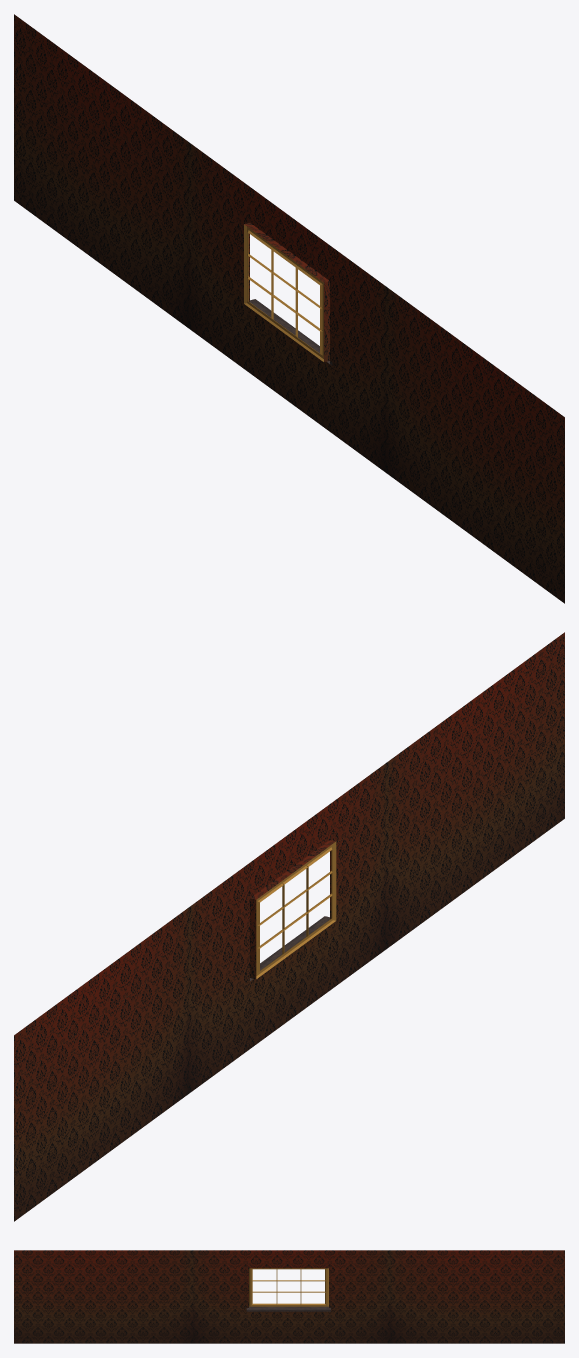
File: wand rechts BRAUN ALONE.fbx
3 renders of one model, top to bottom at view 1: azimuth 30°, elevation 25°; view 2: azimuth 150°, elevation 25°; view 3: azimuth 270°, elevation 25°, orthographic. The views are drawn at different scales.
Parts seen in each view (by area): view 1: hintergrund_wand; view 2: hintergrund_wand; view 3: hintergrund_wand.
Part boxes in pixels (x1=…): hintergrund_wand: x1=14, y1=14, x2=564, y2=603; hintergrund_wand: x1=14, y1=632, x2=564, y2=1221; hintergrund_wand: x1=14, y1=1250, x2=564, y2=1343.
Bounding box in the file's own units: 0.2285 × 3 × 16.05.
